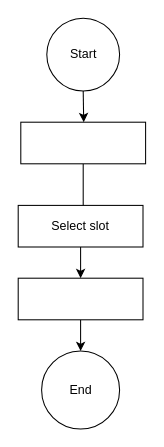
Image size: 164x447. Some labels were removed from this diagram. The centre of each missing label's shape, as x and y in pixels:
"Booking Confirmation" goes at [80,298].
"Search Stations" goes at [83,142].
